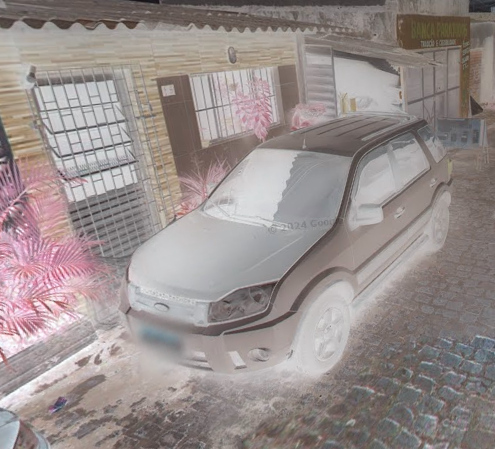car: (115, 107, 455, 378)
